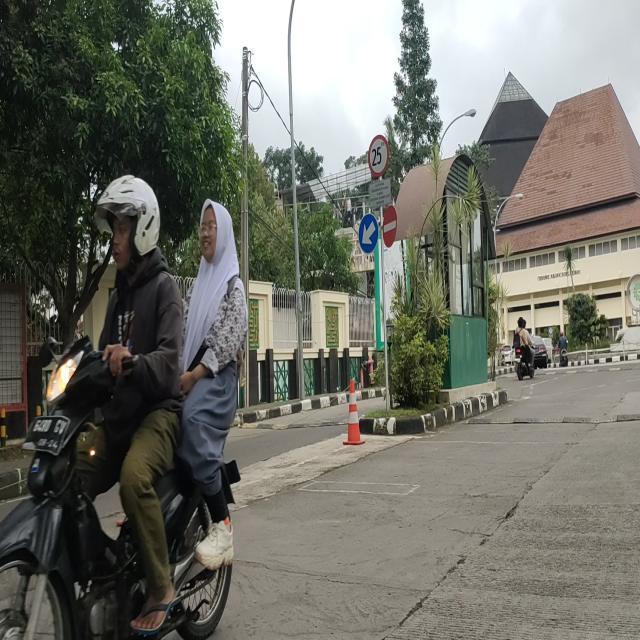helmet: (99, 181, 159, 266)
no-helmet: (201, 201, 233, 261)
